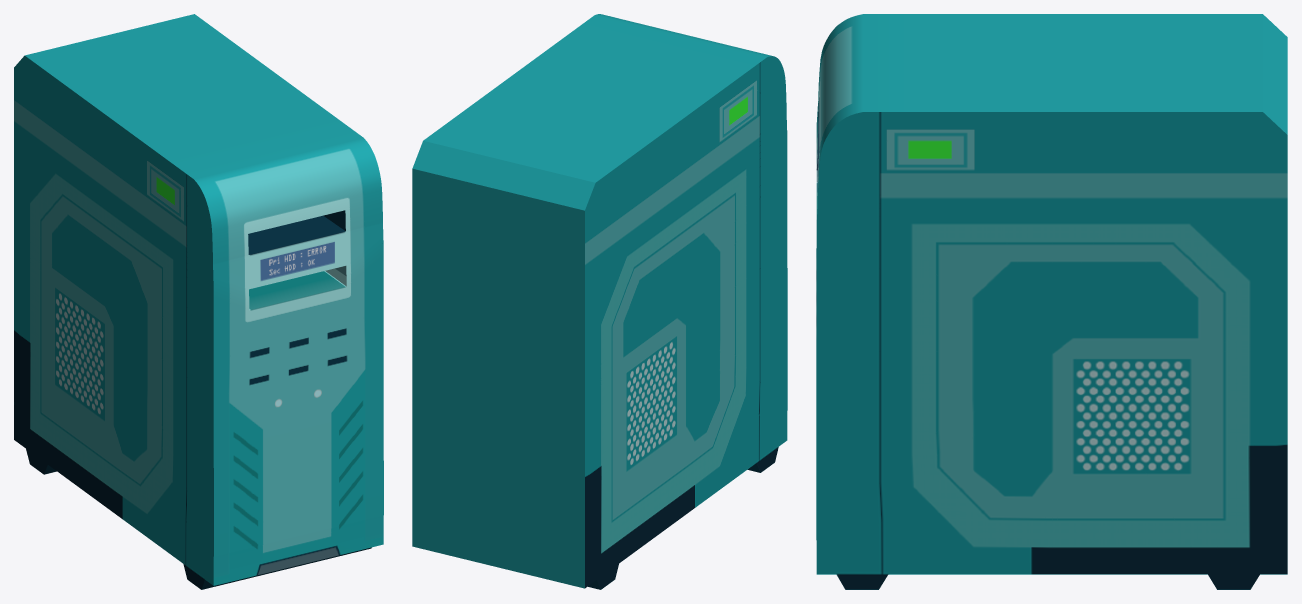
The model's file is COMPUTER.obj.
The picture shows the model from 3 angles, left to right: view 1: azimuth 30°, elevation 25°; view 2: azimuth 150°, elevation 25°; view 3: azimuth 270°, elevation 25°; orthographic projection. The views are drawn at different scales.
Bounding box in the file's own units: 0.2039 × 0.4643 × 0.415.
Materials: 1 (1 with a texture image).
